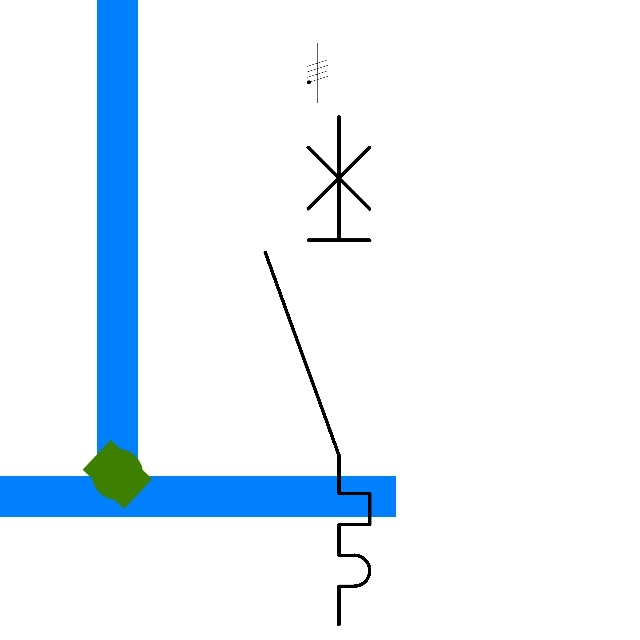interruptor_termomagnetico: (252, 103, 383, 637)
